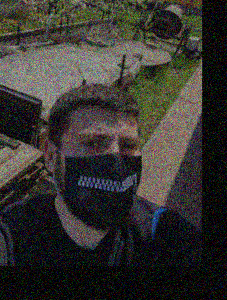with_mask: (63, 121, 143, 232)
